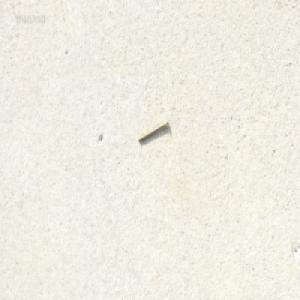Bolt: (137, 116, 168, 143)
